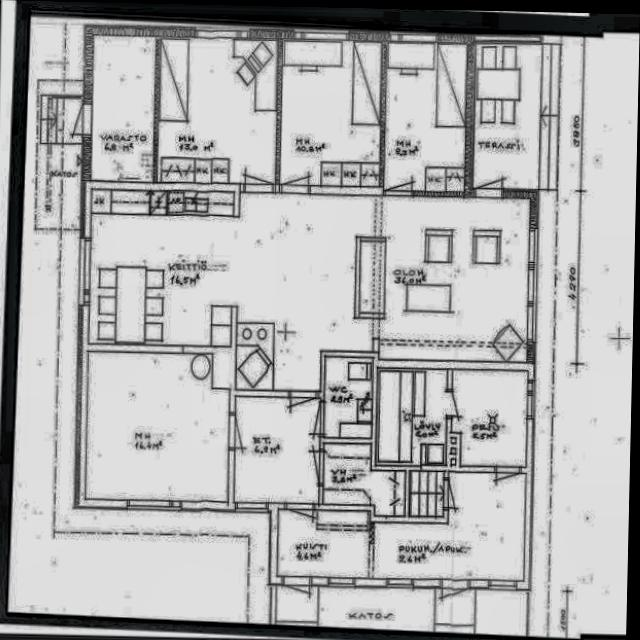room: (88, 190, 376, 392), (379, 196, 529, 362), (85, 352, 231, 502), (157, 37, 277, 185), (374, 472, 527, 581), (279, 40, 383, 187), (384, 43, 466, 192), (91, 35, 156, 182), (234, 397, 321, 504), (451, 370, 528, 468), (376, 369, 447, 466), (277, 510, 370, 578), (323, 443, 406, 516), (324, 357, 373, 438)
